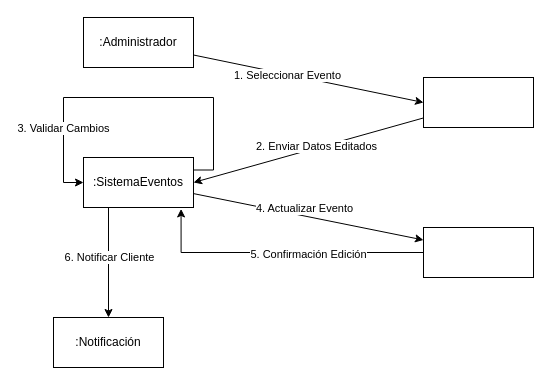
Some shapes in this 551 by 385 pixel diagram are drawn without their labels. Each missing label, with the centre of its shape:
:BD_Eventos: (478,252)
:UI_Eventos: (478,102)
